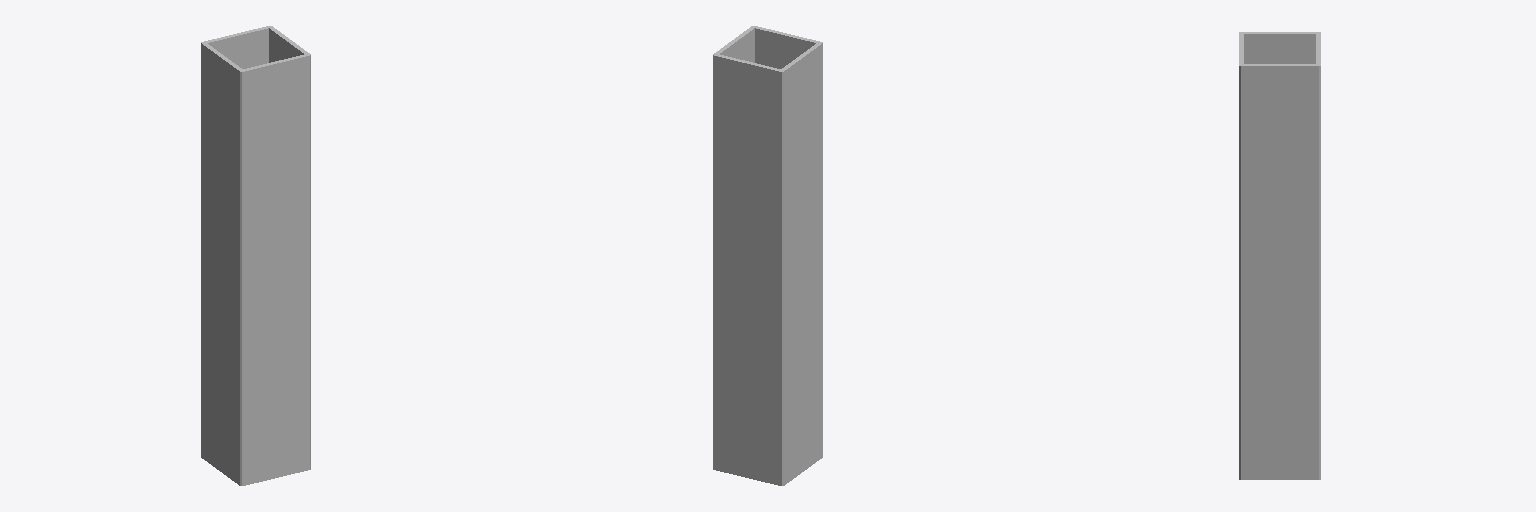
The model's file is TowerShield.obj.
3 renders of one model, left to right at view 1: azimuth 30°, elevation 25°; view 2: azimuth 150°, elevation 25°; view 3: azimuth 270°, elevation 25°, orthographic.
Visible parts, largest first — view 1: TowerShield; view 2: TowerShield; view 3: TowerShield.
Boxes of the visible parts, x1,y1,x2,y2 form: TowerShield: [201, 26, 310, 485]; TowerShield: [713, 26, 822, 485]; TowerShield: [1239, 32, 1320, 479].
Size of the model in its own units: 5 by 28 by 5.